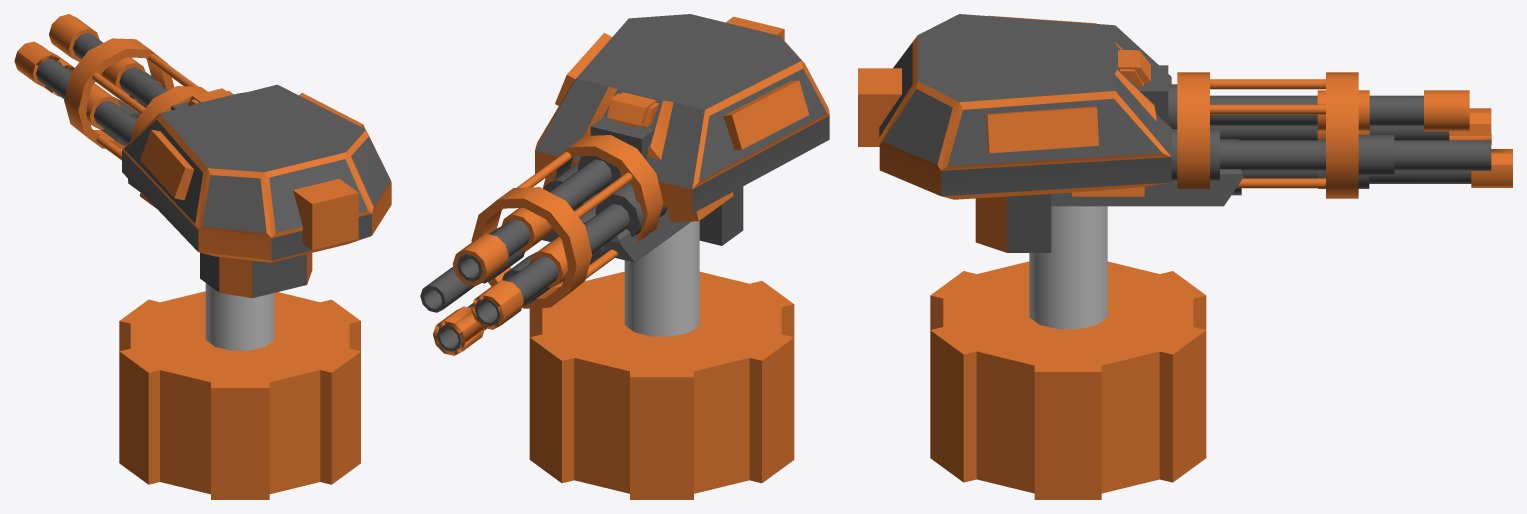
Rendered from Gun_4lu.fbx.
The picture shows the model from 3 angles, left to right: view 1: azimuth 30°, elevation 25°; view 2: azimuth 150°, elevation 25°; view 3: azimuth 270°, elevation 25°; orthographic projection. The views are drawn at different scales.
Parts seen in each view (by area): view 1: PylonElement.009, Turret.011, RotatingGuns.001, Pylon.009; view 2: PylonElement.009, Turret.011, RotatingGuns.001, Pylon.009; view 3: Turret.011, PylonElement.009, RotatingGuns.001, Pylon.009.
Part boxes in pixels (box(x1,y1,x2,y2)): PylonElement.009: box(119, 291, 360, 499); Turret.011: box(122, 84, 391, 298); RotatingGuns.001: box(14, 14, 207, 160); Pylon.009: box(205, 283, 274, 350); PylonElement.009: box(529, 271, 794, 499); Turret.011: box(535, 14, 829, 262); RotatingGuns.001: box(420, 135, 666, 355); Pylon.009: box(624, 221, 699, 336); Turret.011: box(858, 14, 1243, 252); PylonElement.009: box(930, 261, 1206, 499); RotatingGuns.001: box(1168, 72, 1512, 198); Pylon.009: box(1029, 206, 1107, 329).
Bounding box in the file's own units: 1.16 × 1.75 × 2.72.
